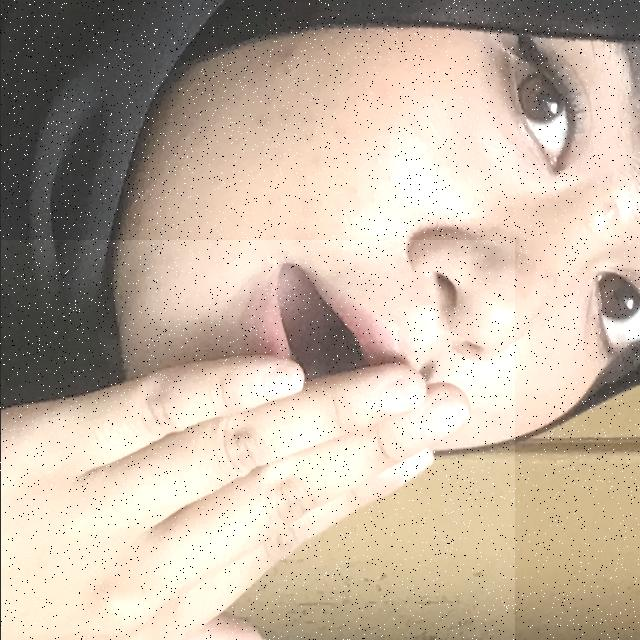ngantuk: (0, 240, 514, 640)
